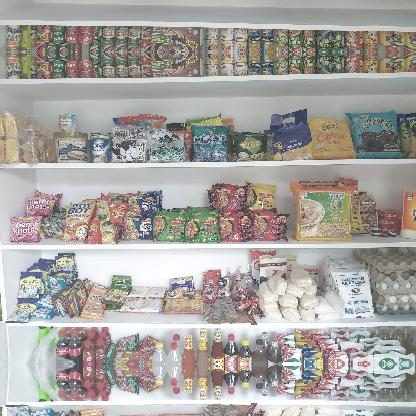Lady-s-Choice: (52, 132, 88, 162)
